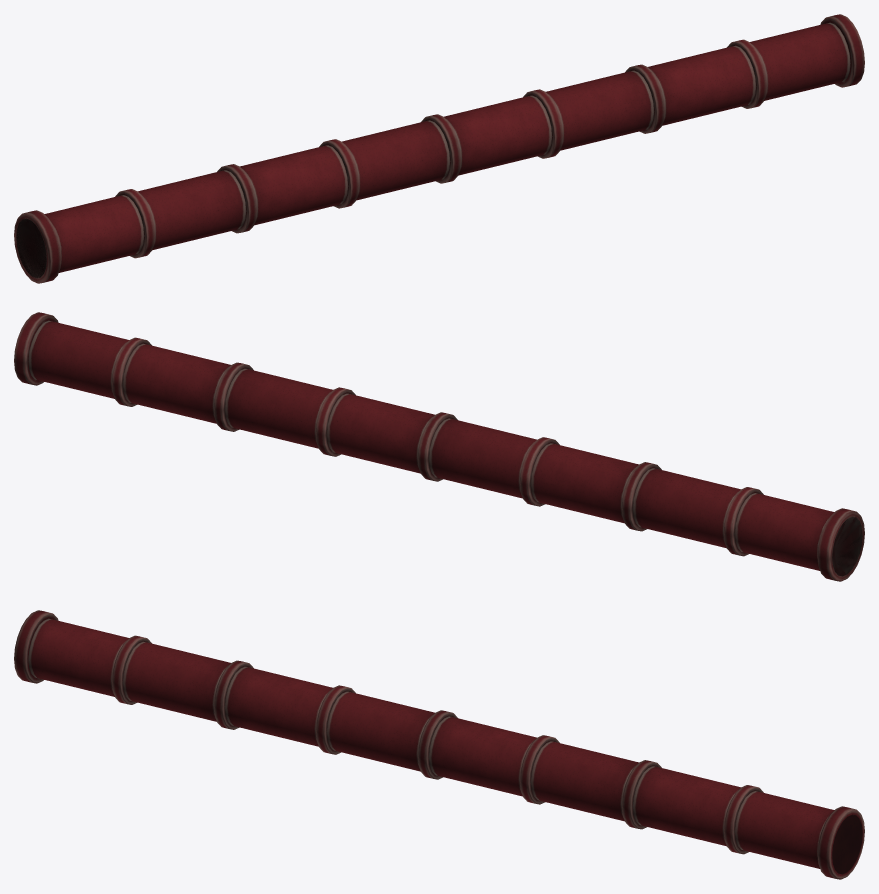
File: RidgeTiles.fbx
3 renders of one model, top to bottom at view 1: azimuth 30°, elevation 25°; view 2: azimuth 150°, elevation 25°; view 3: azimuth 330°, elevation 25°, orthographic.
Visible parts, largest first — view 1: RidgeTiles; view 2: RidgeTiles; view 3: RidgeTiles.
Part boxes in pixels (box(x1,y1,x2,y2)): RidgeTiles: box(14, 14, 864, 283); RidgeTiles: box(14, 312, 864, 581); RidgeTiles: box(14, 610, 864, 879).
Size of the model in its own units: 800 by 62 by 62.
